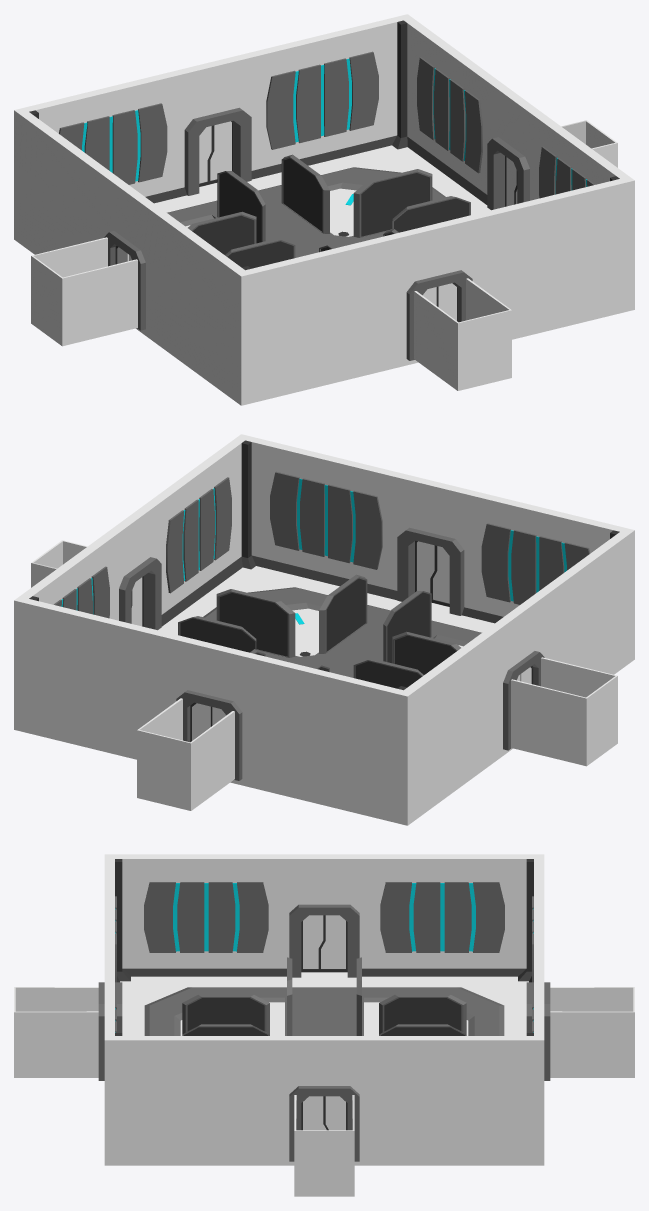
The model's file is SciFiRoom2 (7).fbx.
The picture shows the model from 3 angles, top to bottom: view 1: azimuth 30°, elevation 25°; view 2: azimuth 150°, elevation 25°; view 3: azimuth 270°, elevation 25°; orthographic projection. The views are drawn at different scales.
Parts seen in each view (by area): view 1: Room3.005, Room3, Room3.003, Room3.002, Room3.004, Room3.001, Corridor.030, Corridor.006, Walls.009, Corridor.029, Walls.005, Corridor.005 (+10 smaller); view 2: Room3.002, Room3, Room3.003, Room3.005, Room3.004, Room3.001, Corridor.031, Corridor.002, Walls.007, Corridor.025, Walls.004, Corridor.005 (+10 smaller); view 3: Room3.004, Room3, Room3.003, Room3.001, Corridor.024, Corridor.028, Corridor.001, Walls.003, Walls.006, Corridor.025, Corridor.029, Lights (+8 smaller).
Part boxes in pixels (x1=…): Room3.005: x1=241, y1=179, x2=634, y2=405; Room3: x1=29, y1=20, x2=619, y2=360; Room3.003: x1=14, y1=110, x2=244, y2=405; Room3.002: x1=14, y1=14, x2=407, y2=196; Room3.004: x1=404, y1=14, x2=634, y2=200; Room3.001: x1=154, y1=145, x2=490, y2=257; Corridor.030: x1=62, y1=259, x2=137, y2=343; Corridor.006: x1=458, y1=310, x2=511, y2=388; Walls.009: x1=353, y1=169, x2=432, y2=237; Corridor.029: x1=414, y1=291, x2=458, y2=388; Walls.005: x1=281, y1=154, x2=329, y2=233; Corridor.005: x1=31, y1=255, x2=62, y2=343; Room3.002: x1=14, y1=599, x2=407, y2=825; Room3: x1=29, y1=440, x2=619, y2=780; Room3.003: x1=404, y1=530, x2=634, y2=825; Room3.005: x1=241, y1=434, x2=634, y2=616; Room3.004: x1=14, y1=434, x2=244, y2=620; Room3.001: x1=158, y1=566, x2=494, y2=677; Corridor.031: x1=511, y1=679, x2=586, y2=763; Corridor.002: x1=137, y1=730, x2=190, y2=808; Walls.007: x1=216, y1=589, x2=295, y2=657; Corridor.025: x1=190, y1=711, x2=234, y2=808; Walls.004: x1=319, y1=574, x2=367, y2=653; Corridor.005: x1=586, y1=675, x2=617, y2=763; Room3.004: x1=104, y1=1036, x2=544, y2=1165; Room3: x1=98, y1=859, x2=550, y2=1161; Room3.003: x1=105, y1=854, x2=543, y2=974; Room3.001: x1=120, y1=974, x2=528, y2=1035; Corridor.024: x1=550, y1=1011, x2=634, y2=1075; Corridor.028: x1=14, y1=1011, x2=98, y2=1075; Corridor.001: x1=294, y1=1130, x2=354, y2=1194; Walls.003: x1=182, y1=994, x2=269, y2=1034; Walls.006: x1=379, y1=994, x2=466, y2=1034; Corridor.025: x1=550, y1=987, x2=634, y2=1011; Corridor.029: x1=14, y1=987, x2=98, y2=1011; Lights: x1=115, y1=883, x2=533, y2=1032.
Bounding box in the file's own units: 2669 × 593 × 2669.
1 material, 1 textured.
